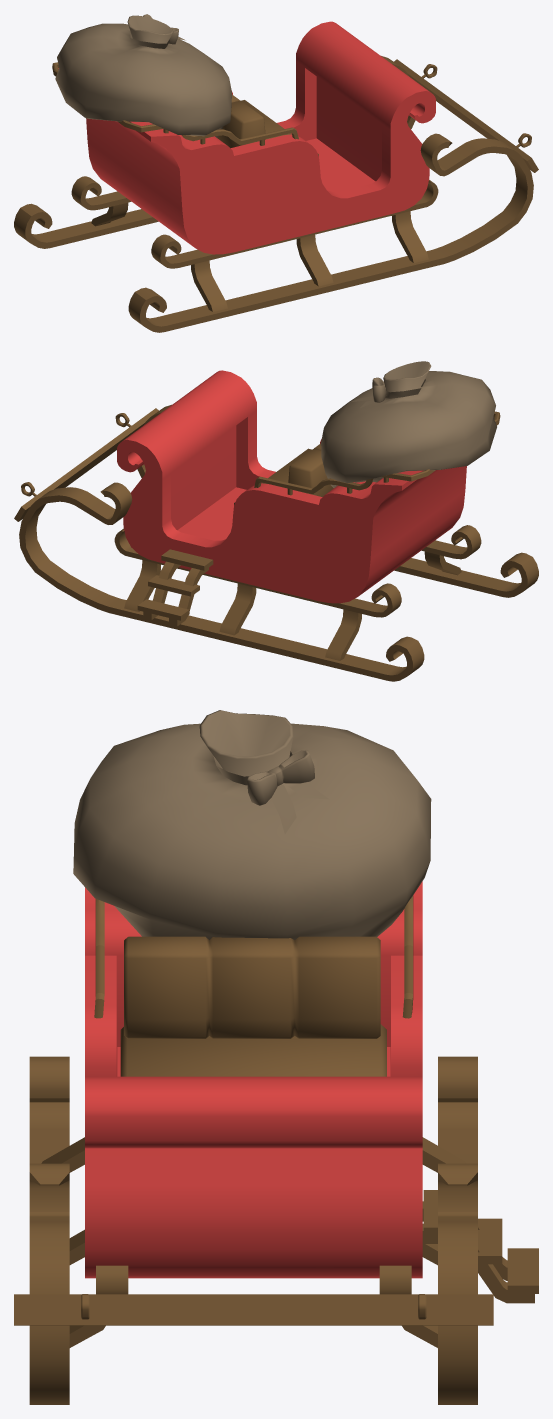
File: Sleigh.fbx
3 renders of one model, top to bottom at view 1: azimuth 30°, elevation 25°; view 2: azimuth 150°, elevation 25°; view 3: azimuth 270°, elevation 25°, orthographic. The views are drawn at different scales.
Visible parts, largest first — view 1: sleigh, sleigh_woodslide, bag, sleigh_woodslide piller, seat_Back, metal; view 2: sleigh, sleigh_woodslide, bag, sleigh_woodslide piller, staircase, seat_Back, metal, stair_suport; view 3: sleigh, bag, sleigh_woodslide, seat_Back, seat, staircase, sleigh_woodslide piller, metal, bow, stair_suport.
Boxes of the visible parts, left/top/right/bottom form: sleigh: left=58, top=21, right=435, bottom=254; sleigh_woodslide: left=14, top=56, right=538, bottom=332; bag: left=55, top=15, right=231, bottom=137; sleigh_woodslide piller: left=91, top=202, right=428, bottom=311; seat_Back: left=217, top=94, right=265, bottom=148; metal: left=52, top=62, right=298, bottom=144; sleigh: left=117, top=370, right=466, bottom=603; sleigh_woodslide: left=14, top=404, right=538, bottom=681; bag: left=321, top=361, right=496, bottom=487; sleigh_woodslide piller: left=124, top=551, right=461, bottom=660; staircase: left=137, top=549, right=213, bottom=620; seat_Back: left=288, top=443, right=333, bottom=496; metal: left=254, top=411, right=500, bottom=493; stair_suport: left=143, top=561, right=208, bottom=626; sleigh: left=85, top=881, right=422, bottom=1278; bag: left=73, top=710, right=431, bottom=939; sleigh_woodslide: left=14, top=1056, right=493, bottom=1404; seat_Back: left=124, top=936, right=380, bottom=1038; seat: left=120, top=1024, right=386, bottom=1076; staircase: left=423, top=1190, right=538, bottom=1293; sleigh_woodslide piller: left=41, top=1137, right=465, bottom=1347; metal: left=94, top=895, right=413, bottom=1018; bow: left=247, top=749, right=314, bottom=805; stair_suport: left=422, top=1201, right=534, bottom=1303.
Bounding box in the file's own units: 429 × 410 × 689.
